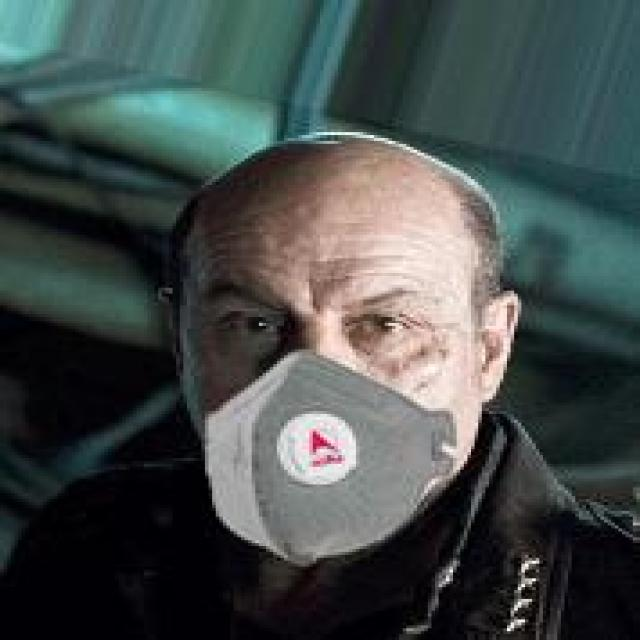mask: (129, 117, 536, 608)
